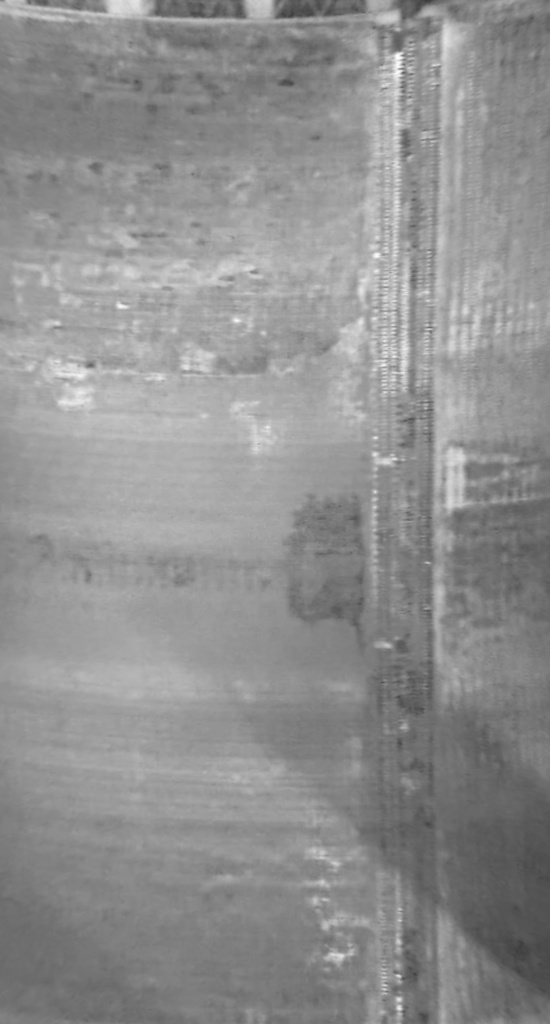splice: (345, 3, 442, 1024)
